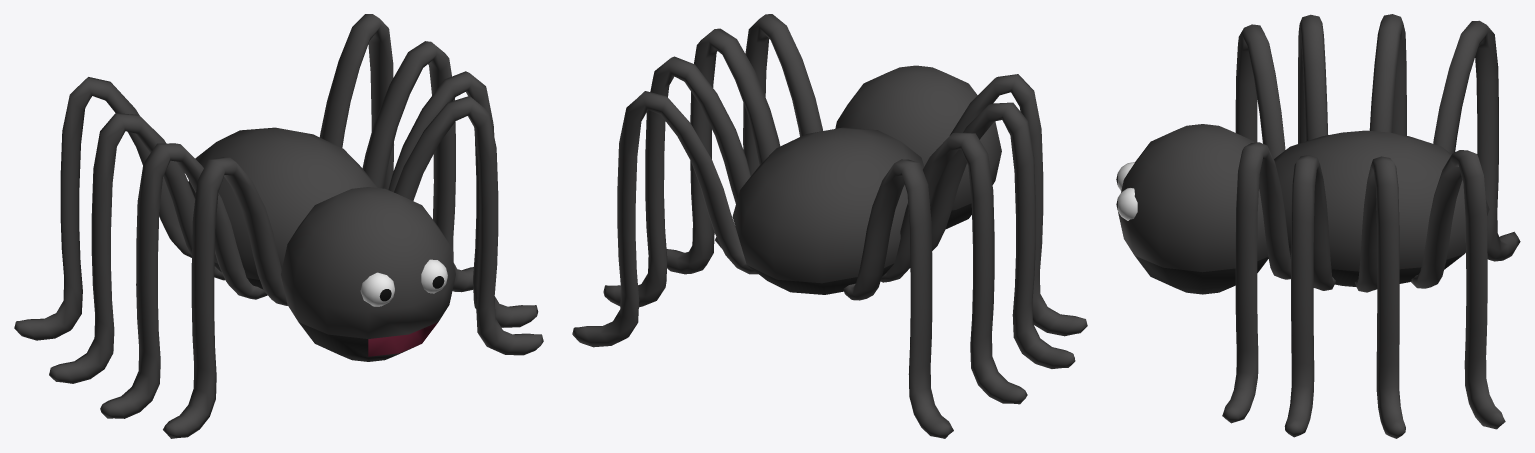
File: Spider.FBX
3 views of the same model, side by side, from view 1: azimuth 30°, elevation 25°; view 2: azimuth 150°, elevation 25°; view 3: azimuth 270°, elevation 25° (orthographic). The views are drawn at different scales.
Parts seen in each view (by area): view 1: Sphere; view 2: Sphere; view 3: Sphere.
Boxes of the visible parts, x1,y1,x2,y2 form: Sphere: (14, 14, 543, 438); Sphere: (572, 14, 1087, 438); Sphere: (1116, 14, 1520, 438).
Bounding box in the file's own units: 379 × 313 × 218.
1 material, 1 textured.
